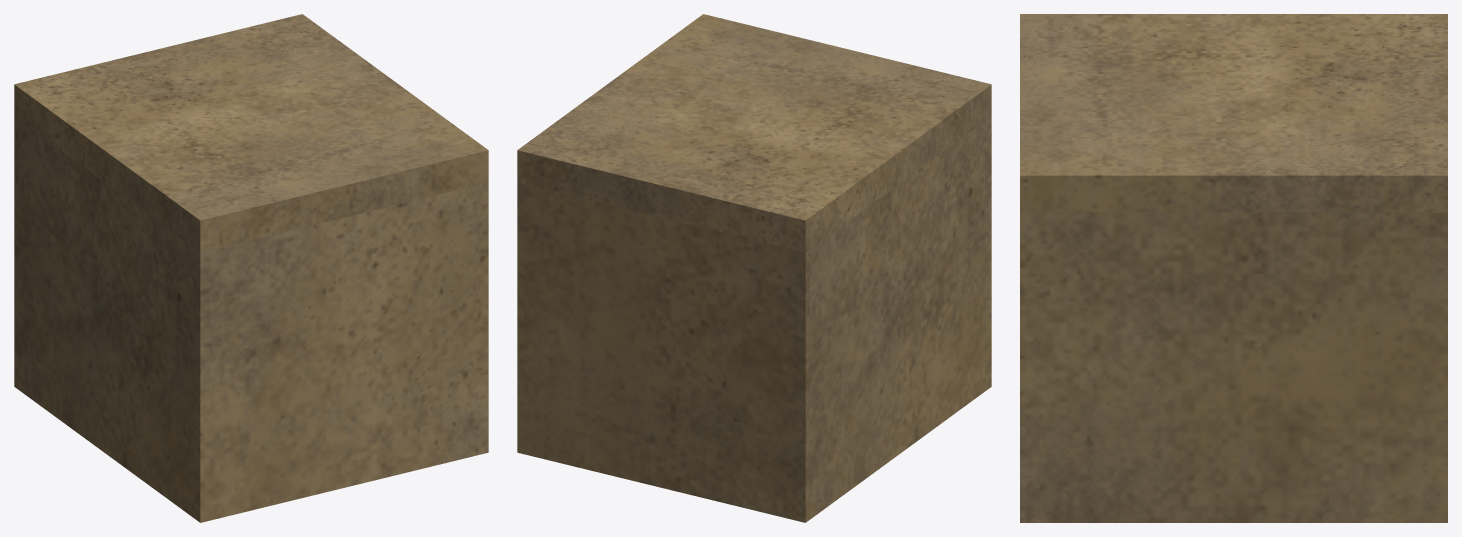
3 views of the same model, side by side, from view 1: azimuth 30°, elevation 25°; view 2: azimuth 150°, elevation 25°; view 3: azimuth 270°, elevation 25° (orthographic). The views are drawn at different scales.
Visible parts, largest first — view 1: Box, BoxKrishka; view 2: Box, BoxKrishka; view 3: Box, BoxKrishka.
Boxes of the visible parts, x1,y1,x2,y2 form: Box: [14, 117, 488, 522]; BoxKrishka: [14, 14, 488, 252]; Box: [517, 117, 991, 522]; BoxKrishka: [517, 14, 991, 252]; Box: [1020, 212, 1447, 522]; BoxKrishka: [1020, 14, 1447, 212].
Size of the model in its own units: 1.79 by 1.79 by 2.
1 material, 1 textured.
